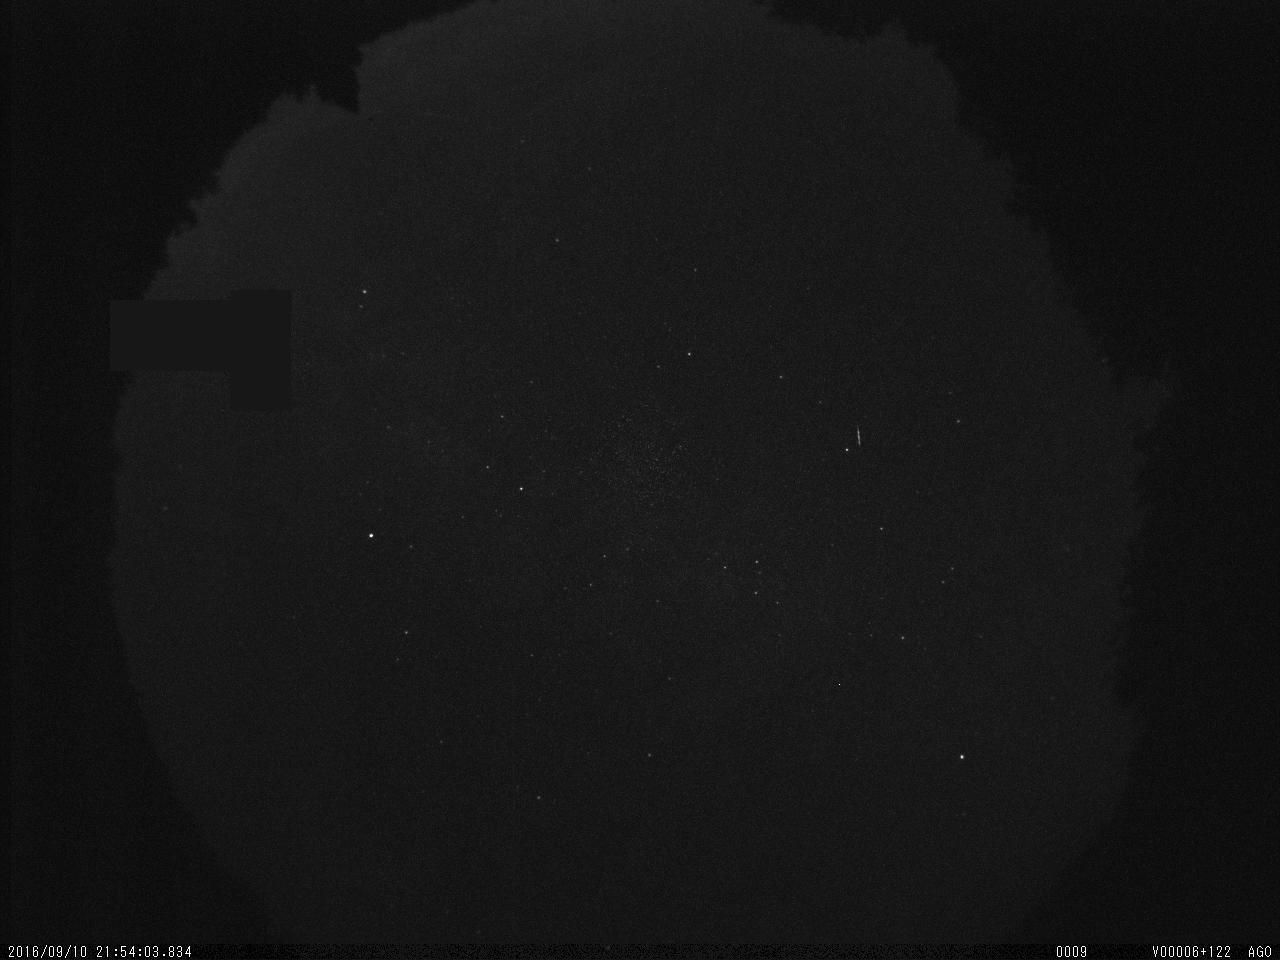meteor: (849, 412, 870, 459)
